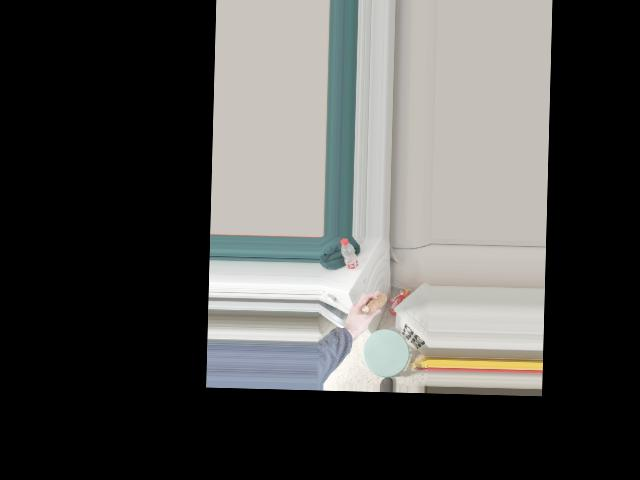sweet_potato: (359, 289, 386, 318)
